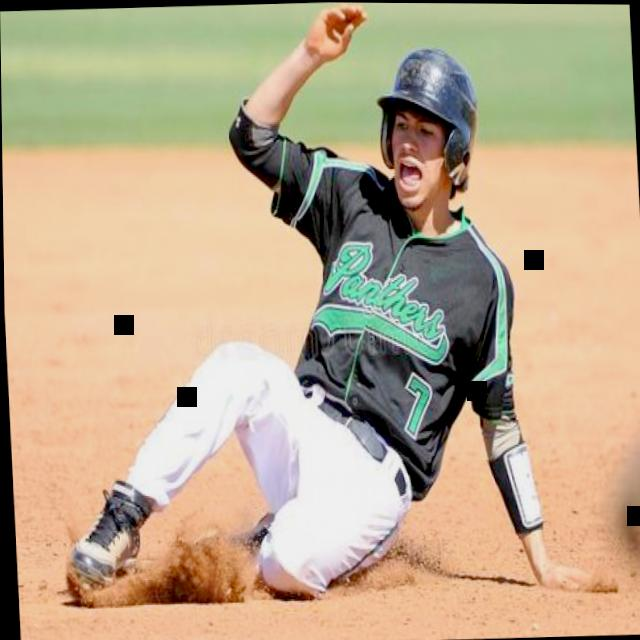Fall-Detected: (3, 0, 630, 640)
